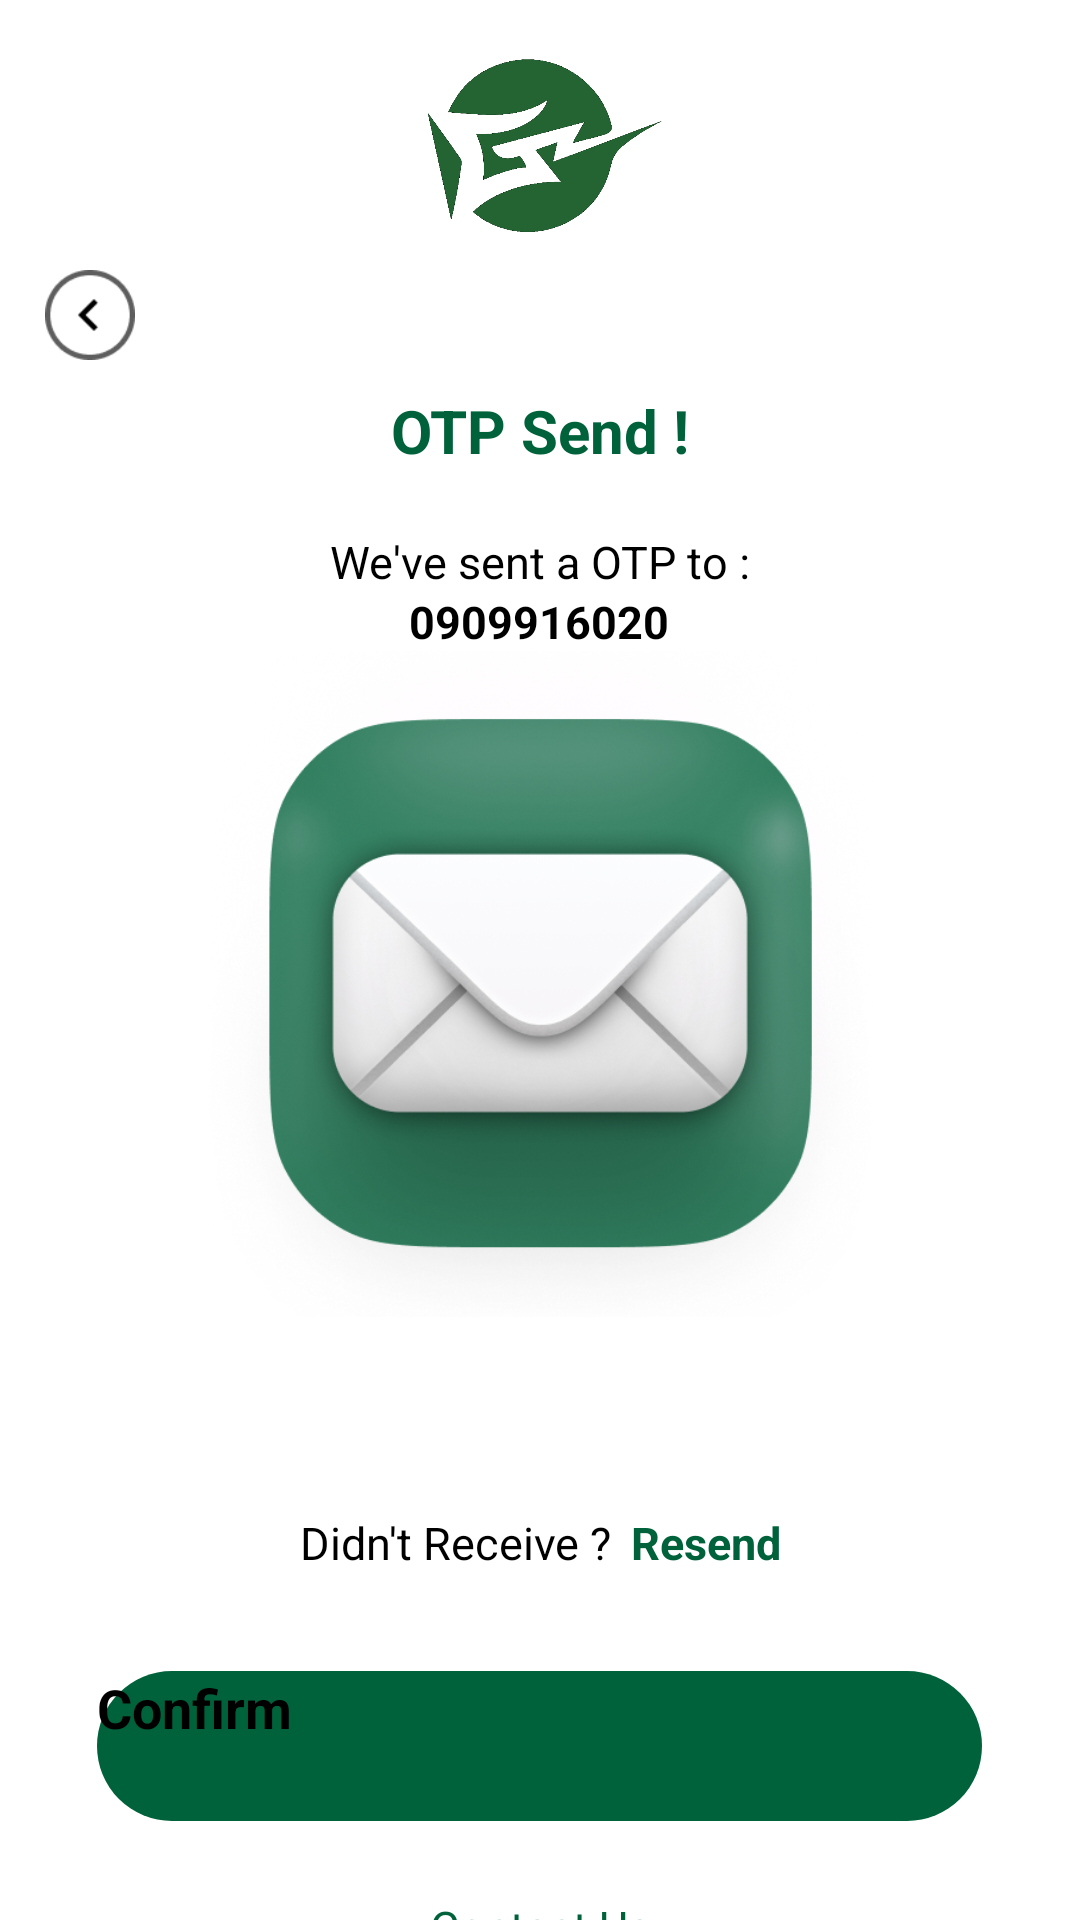

Icon bounding boxes for this 1080 x 1920 phone screenshot, format (x1, y1, x2, y2):
back: (45, 270, 135, 360)
